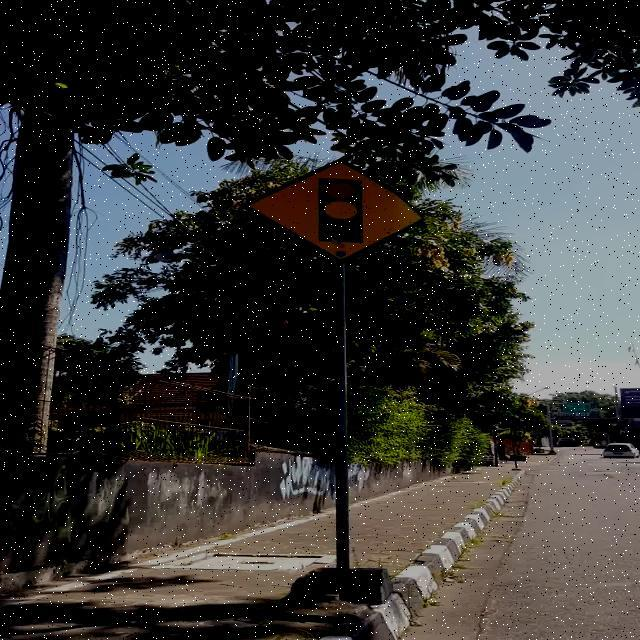Lampu Lalu Lintas: (242, 160, 426, 262)
